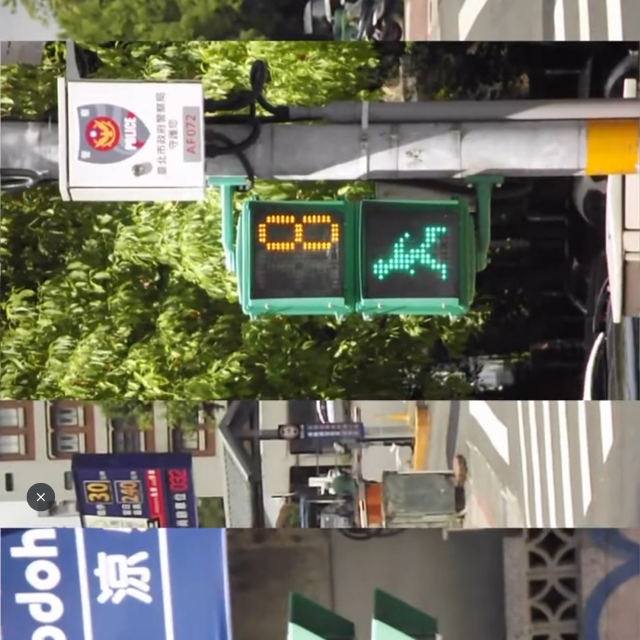green_light: (240, 203, 468, 306)
